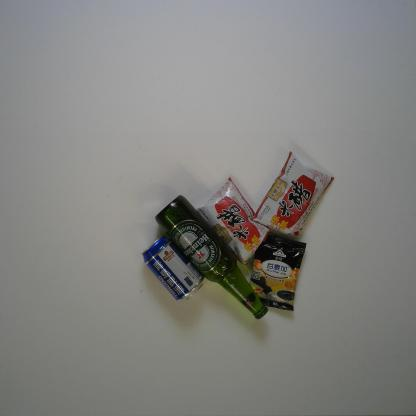Alcohol: (154, 194, 269, 320), (140, 235, 206, 301)
Instant Drink: (248, 234, 308, 312)
Seasoner: (249, 150, 335, 237), (197, 175, 271, 266)
